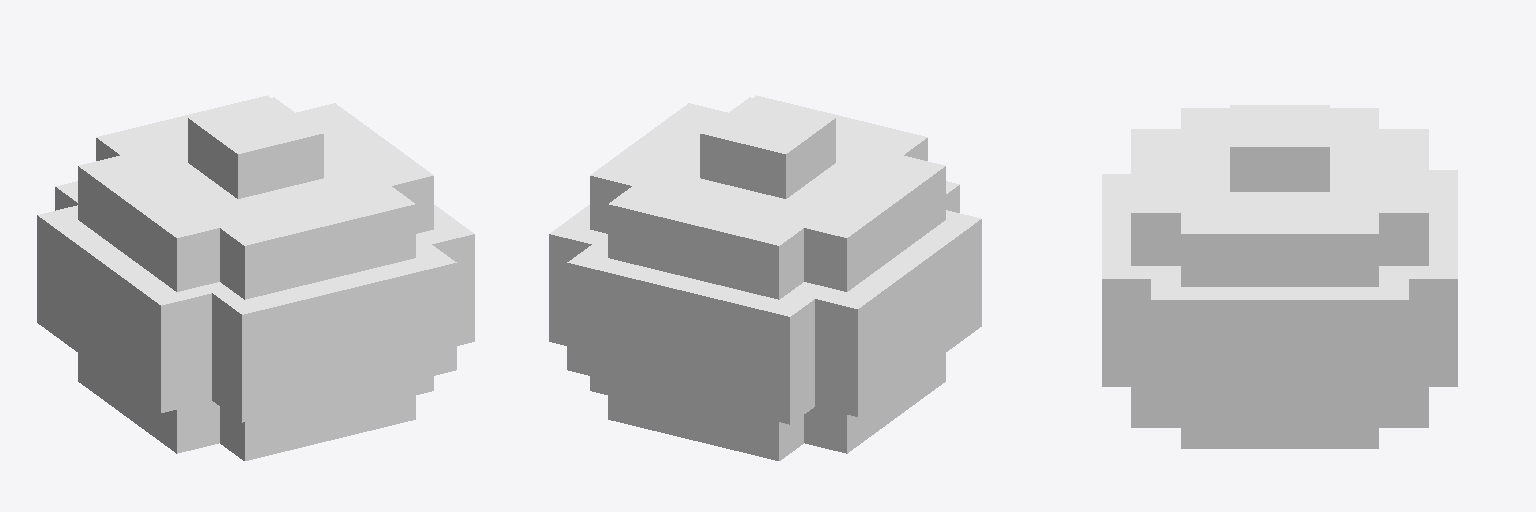
File: leaves.obj
3 views of the same model, side by side, from view 1: azimuth 30°, elevation 25°; view 2: azimuth 150°, elevation 25°; view 3: azimuth 270°, elevation 25° (orthographic).
Parts seen in each view (by area): view 1: leaves; view 2: leaves; view 3: leaves.
Boxes of the visible parts, <box> form: leaves: <box>37,95,474,460</box>; leaves: <box>549,95,981,460</box>; leaves: <box>1102,105,1457,448</box>.
Bounding box in the file's own units: 3.6 × 2.9 × 3.6.